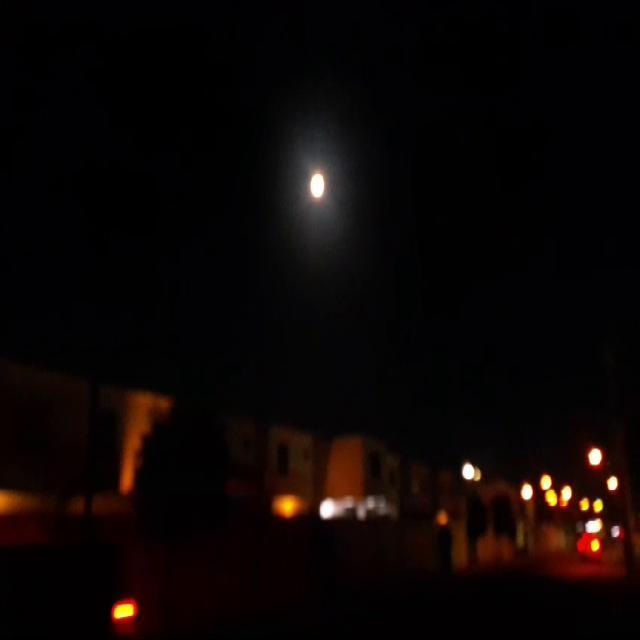moon: (294, 170, 314, 204)
